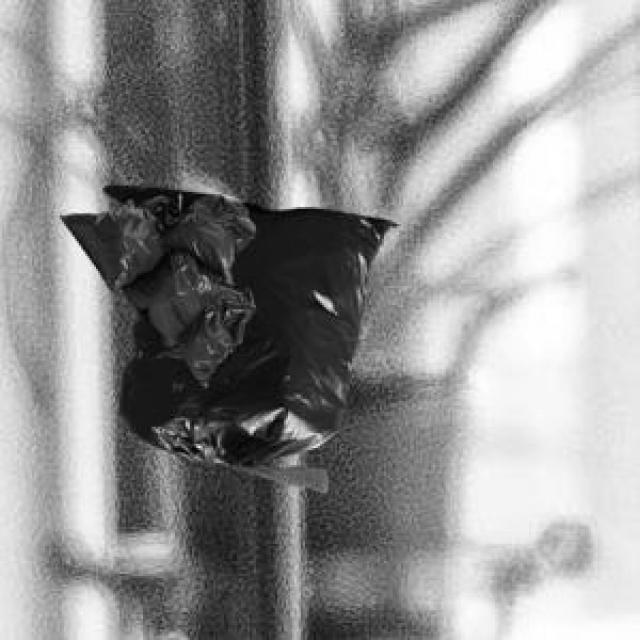miscellaneous trash: (100, 181, 393, 489), (58, 190, 252, 384)
